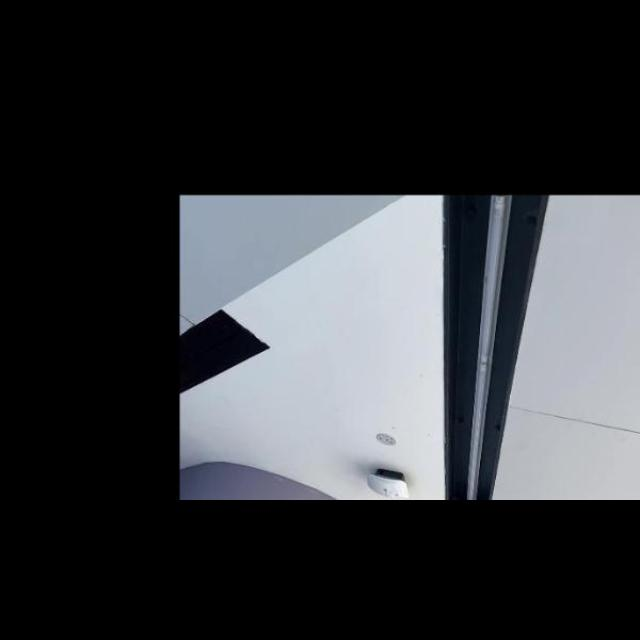Straight-Tube-Fluorescent-Lamp: (456, 198, 526, 500)
